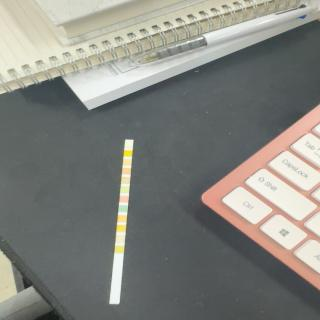mark: (116, 225, 126, 232), (120, 177, 130, 184), (122, 168, 132, 175), (118, 205, 127, 212), (114, 246, 124, 252), (118, 196, 128, 202), (122, 158, 132, 164), (120, 186, 129, 192), (116, 236, 124, 242), (118, 216, 126, 222), (124, 150, 132, 156), (125, 142, 133, 148)
